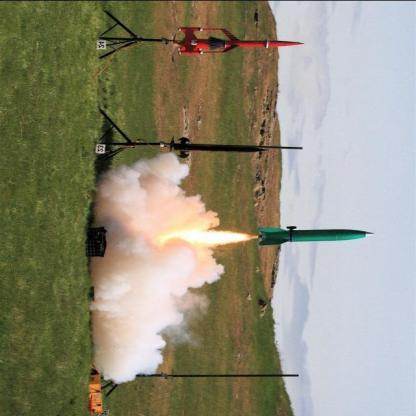MIL_TBM: (175, 26, 305, 53), (260, 225, 378, 247), (172, 137, 272, 157)
